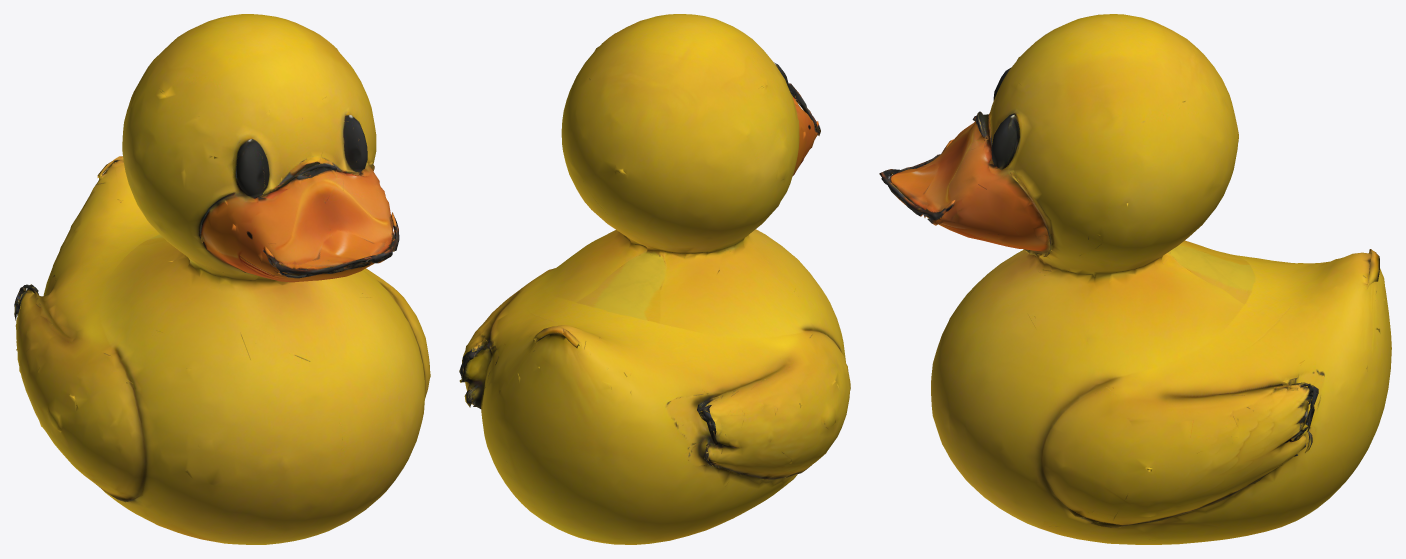
Rendered from duckling.glb.
3 renders of one model, left to right at view 1: azimuth 30°, elevation 25°; view 2: azimuth 150°, elevation 25°; view 3: azimuth 270°, elevation 25°, orthographic. The views are drawn at different scales.
Size of the model in its own units: 1.49 by 1.99 by 1.87.
Materials: 1 (1 with a texture image).
